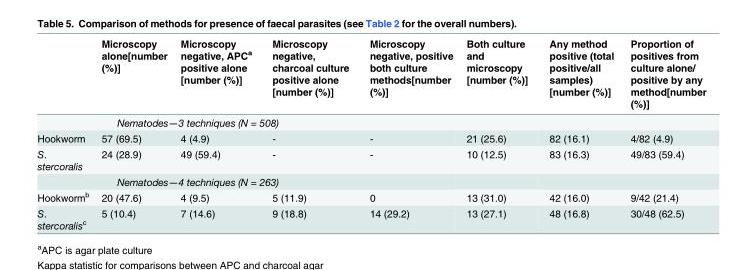table: (36, 37, 705, 231)
table column: (358, 37, 459, 231), (261, 37, 358, 231), (173, 37, 261, 231), (537, 37, 621, 231), (621, 37, 705, 231), (94, 37, 173, 231), (459, 37, 537, 231), (36, 37, 94, 231)
table column header: (36, 37, 705, 112)
table projected row header: (36, 112, 705, 130), (36, 173, 705, 188)
table row: (36, 37, 705, 112), (36, 145, 705, 173), (36, 205, 705, 231), (36, 112, 705, 130), (36, 188, 705, 205), (36, 130, 705, 145), (36, 173, 705, 188)
